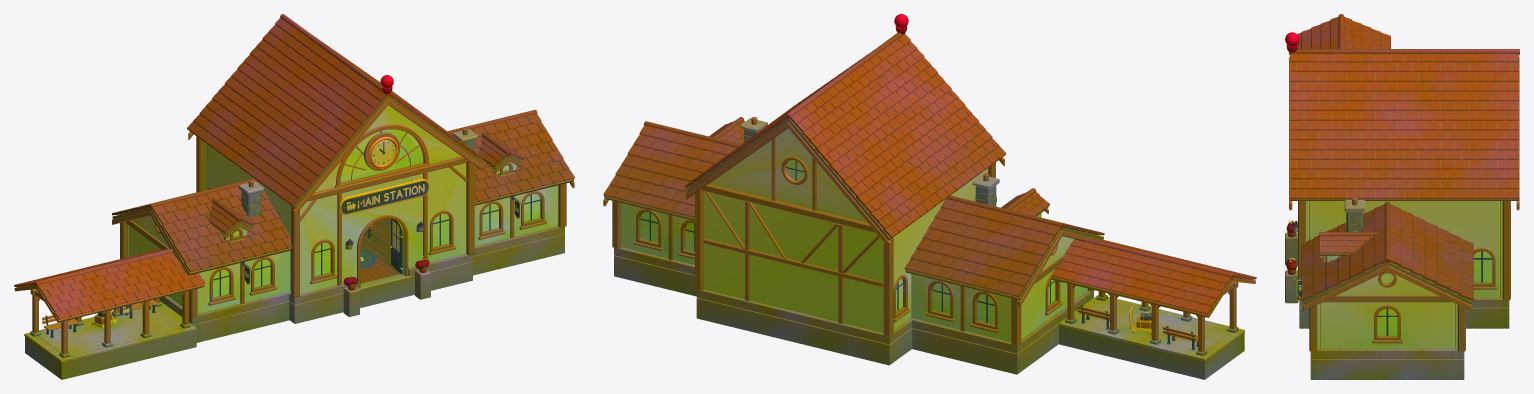
Rendered from Station_Main.fbx.
3 views of the same model, side by side, from view 1: azimuth 30°, elevation 25°; view 2: azimuth 150°, elevation 25°; view 3: azimuth 270°, elevation 25° (orthographic). The views are drawn at different scales.
Parts seen in each view (by area): view 1: Roof, Walls, Canopy, Plinth, Openings, Facade, Door_R; view 2: Roof, Walls, Canopy, Plinth, Openings; view 3: Roof, Walls, Plinth, Canopy, Openings.
Boxes of the visible parts, x1=… form: Roof: x1=112, y1=14, x2=574, y2=275; Walls: x1=112, y1=99, x2=574, y2=317; Canopy: x1=14, y1=248, x2=205, y2=379; Plinth: x1=159, y1=218, x2=564, y2=342; Openings: x1=154, y1=124, x2=546, y2=305; Facade: x1=242, y1=176, x2=521, y2=284; Door_R: x1=390, y1=218, x2=402, y2=274; Roof: x1=603, y1=14, x2=1104, y2=300; Walls: x1=603, y1=122, x2=1104, y2=346; Canopy: x1=1051, y1=238, x2=1256, y2=379; Plinth: x1=614, y1=247, x2=1093, y2=374; Openings: x1=633, y1=157, x2=1062, y2=333; Roof: x1=1285, y1=32, x2=1519, y2=304; Walls: x1=1289, y1=58, x2=1519, y2=351; Plinth: x1=1285, y1=220, x2=1509, y2=379; Canopy: x1=1297, y1=14, x2=1390, y2=48; Openings: x1=1372, y1=247, x2=1497, y2=343.
Bounding box in the file's own units: 29.01 × 12.19 × 10.43.
